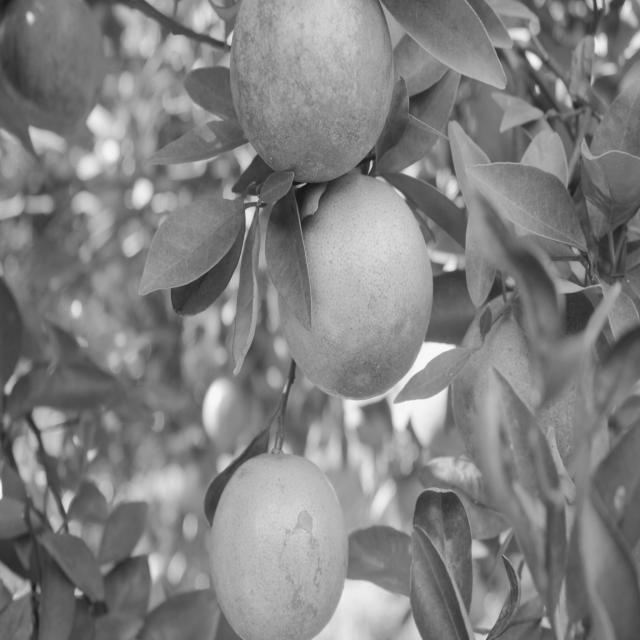healthy: (389, 0, 508, 90), (141, 197, 244, 296), (471, 156, 580, 248), (405, 523, 467, 640), (147, 118, 243, 160), (591, 80, 640, 161), (271, 192, 305, 298)
